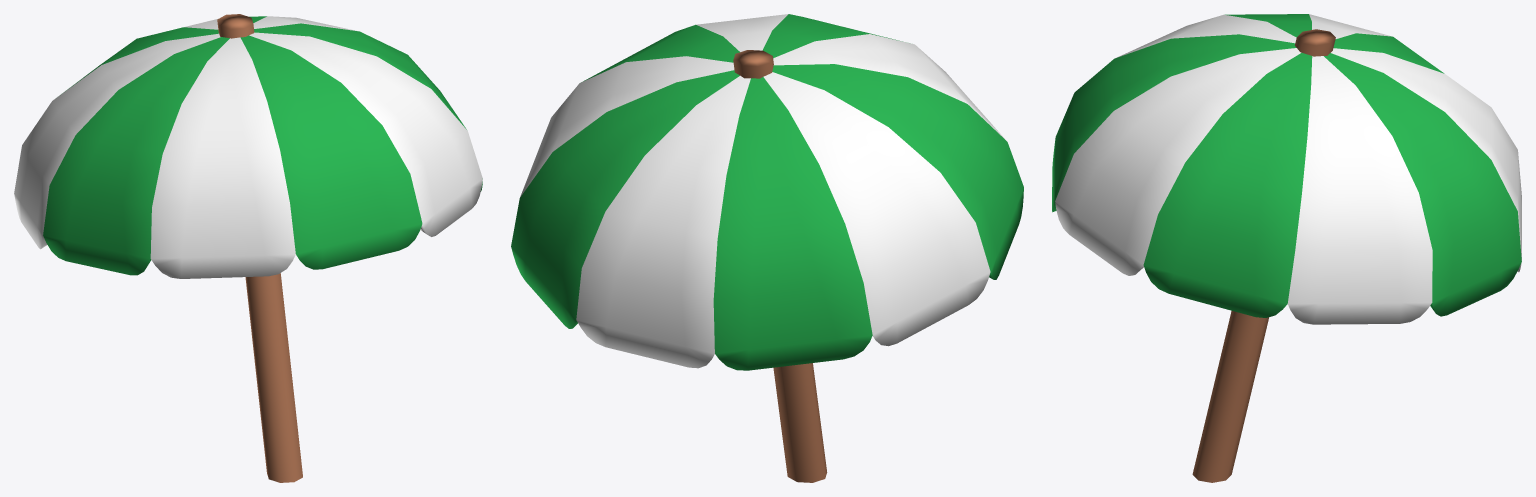
Rendered from umbrella_green.fbx.
The picture shows the model from 3 angles, left to right: view 1: azimuth 30°, elevation 25°; view 2: azimuth 150°, elevation 25°; view 3: azimuth 270°, elevation 25°; orthographic projection. The views are drawn at different scales.
Parts seen in each view (by area): view 1: umbrella_green; view 2: umbrella_green; view 3: umbrella_green.
Boxes of the visible parts, x1,y1,x2,y2 form: umbrella_green: (14,14,482,482); umbrella_green: (511,14,1023,482); umbrella_green: (1052,14,1521,482).
Size of the model in its own units: 1.84 by 1.79 by 1.75.
